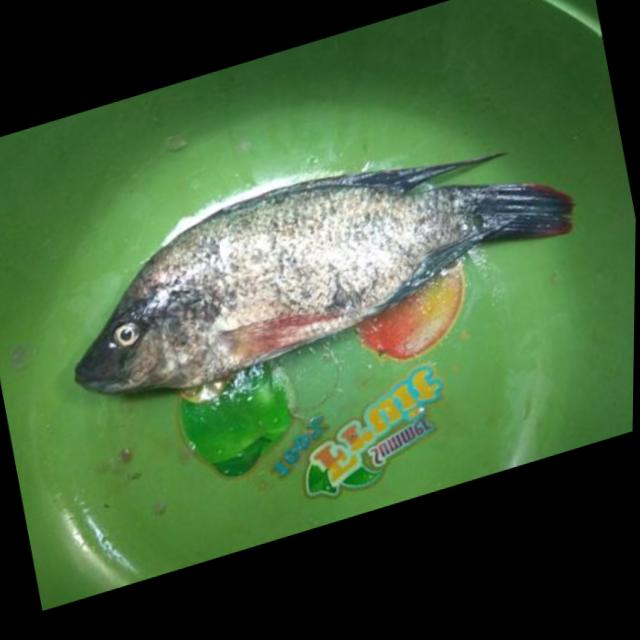Tilapia: (48, 97, 594, 426)
